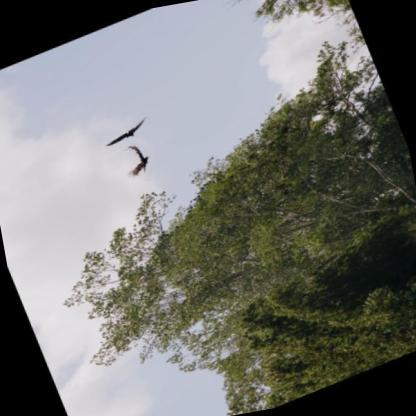bird: (115, 136, 158, 183), (97, 113, 153, 147)
